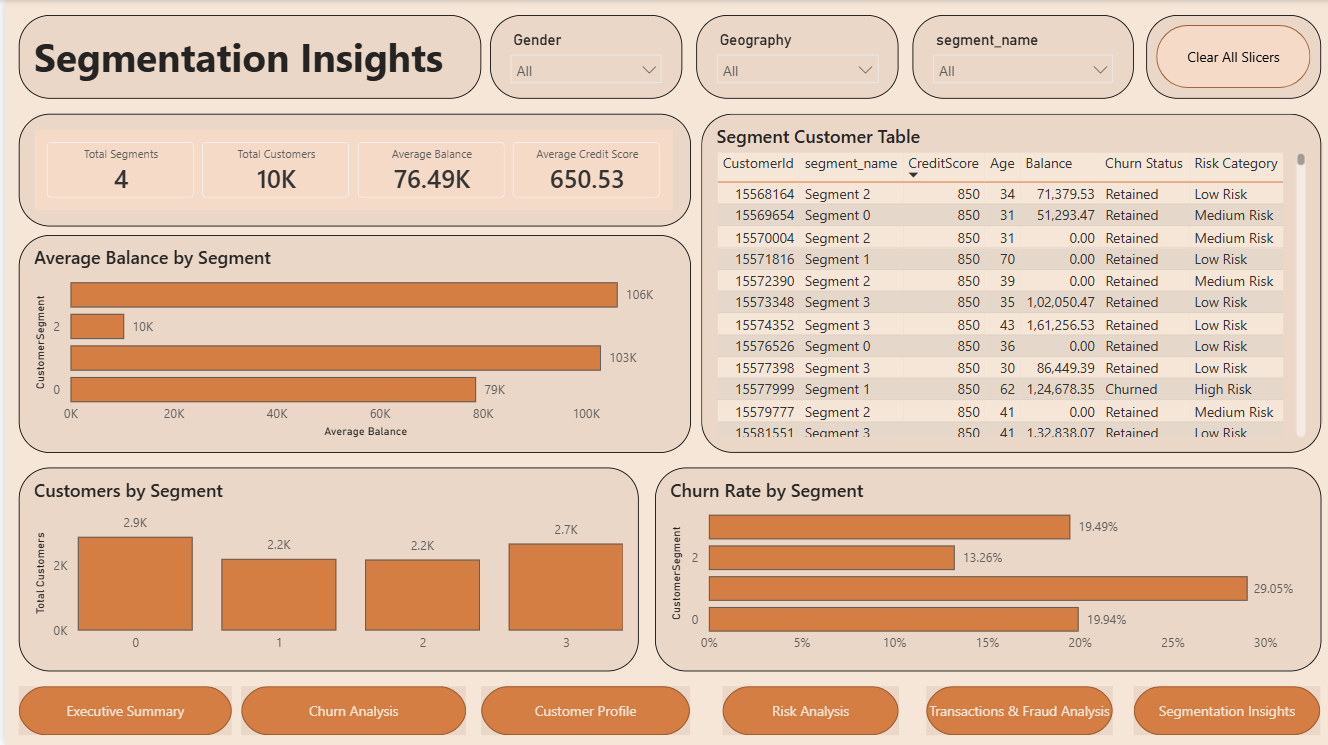

Layout of this report page (visuals, bound fields, positions):
{"tool":"powerbi","page":{"name":"Segmentation Insights","canvas":[1280,720],"ordinal":5},"visuals":[{"type":"textbox","box":[13.3,14.5,446.4,80.8],"z":0},{"type":"cardVisual","fields":{"Data":["customers.Total Segments","customers.Total Customers","customers.Average Balance","customers.Average Credit Score"]},"box":[12.9,110,648.6,108.6],"z":1000},{"type":"columnChart","title":"Customers by Segment","fields":{"Category":["customers.CustomerSegment"],"Y":["customers.Total Customers"]},"box":[12.9,451.4,598.6,197.1],"z":2000},{"type":"barChart","title":"Average Balance by Segment","fields":{"Category":["customers.CustomerSegment"],"Y":["customers.Average Balance"]},"box":[12.9,227.1,648.6,210],"z":3000},{"type":"barChart","title":"Churn Rate by Segment","fields":{"Category":["customers.CustomerSegment"],"Y":["customers.Churn Rate"]},"box":[627.1,451.4,642.9,197.1],"z":4000},{"type":"tableEx","title":"Segment Customer Table","fields":{"Values":["customers.CustomerId","customer_segments.segment_name","customers.CreditScore","customers.Age","customers.Balance","customers.Churn Status","customers.Risk Category"]},"box":[671.4,110,598.6,327.1],"z":5000},{"type":"slicer","fields":{"Values":["customer_segments.segment_name"]},"box":[875.9,14.5,213.5,80.8],"z":6000},{"type":"slicer","fields":{"Values":["customers.Geography"]},"box":[667.2,14.5,195.4,80.8],"z":7000},{"type":"slicer","fields":{"Values":["customers.Gender"]},"box":[468.1,14.5,185.8,80.8],"z":8000},{"type":"shape","box":[12.9,662.9,205.7,47.1],"z":9000},{"type":"shape","box":[228.6,662.9,217.1,47.1],"z":10000},{"type":"shape","box":[460,662.9,201.4,47.1],"z":11000},{"type":"shape","box":[692.9,662.9,170,47.1],"z":12000},{"type":"shape","box":[888.6,662.9,180,47.1],"z":13000},{"type":"shape","box":[1090,662.9,180,47.1],"z":14000},{"type":"shape","box":[1101.5,14.5,168.9,80.8],"z":14001}]}

Visuals, with their boxes in screenshot pixels (x1, y1, x2, y2), scaled from the page's 1280x720 canvas onto the 1328x745 screenshot:
textbox: bbox=[14, 15, 477, 99]
cardVisual - customers.Total Segments x customers.Total Customers: bbox=[13, 114, 686, 226]
"Customers by Segment" columnChart: bbox=[13, 467, 634, 671]
"Average Balance by Segment" barChart: bbox=[13, 235, 686, 452]
"Churn Rate by Segment" barChart: bbox=[651, 467, 1318, 671]
"Segment Customer Table" tableEx: bbox=[697, 114, 1318, 452]
slicer - customer_segments.segment_name: bbox=[909, 15, 1130, 99]
slicer - customers.Geography: bbox=[692, 15, 895, 99]
slicer - customers.Gender: bbox=[486, 15, 678, 99]
shape: bbox=[13, 686, 227, 735]
shape: bbox=[237, 686, 462, 735]
shape: bbox=[477, 686, 686, 735]
shape: bbox=[719, 686, 895, 735]
shape: bbox=[922, 686, 1109, 735]
shape: bbox=[1131, 686, 1318, 735]
shape: bbox=[1143, 15, 1318, 99]
